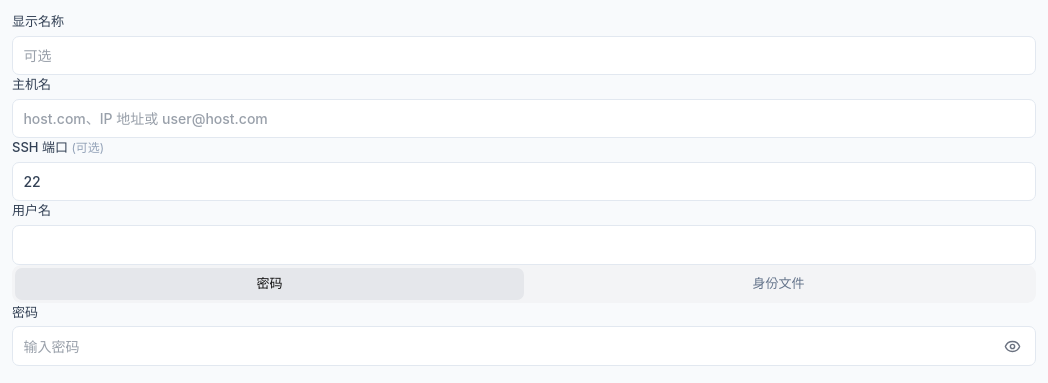
RemoteServerFields host parsing › splits user@host input into username and host
Type "root@keie.com" into the field named "host" at (524, 118), box x1=12 y1=99 x2=1036 y2=138
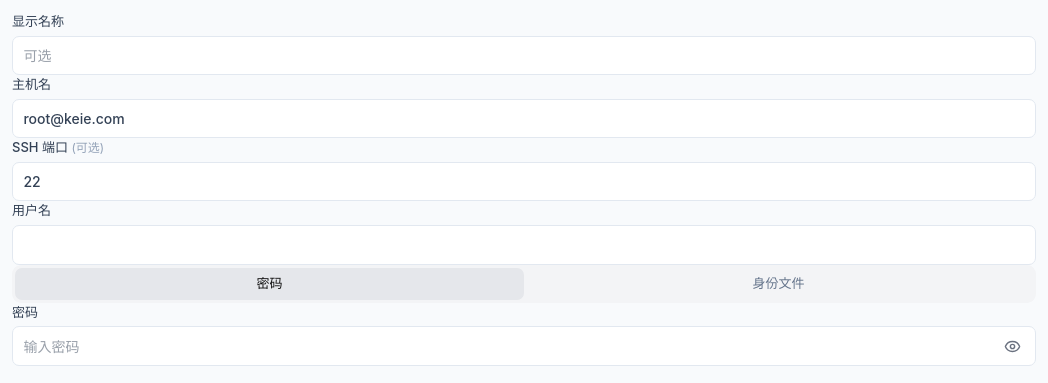
Leave the field named "host", box x1=12 y1=99 x2=1036 y2=138
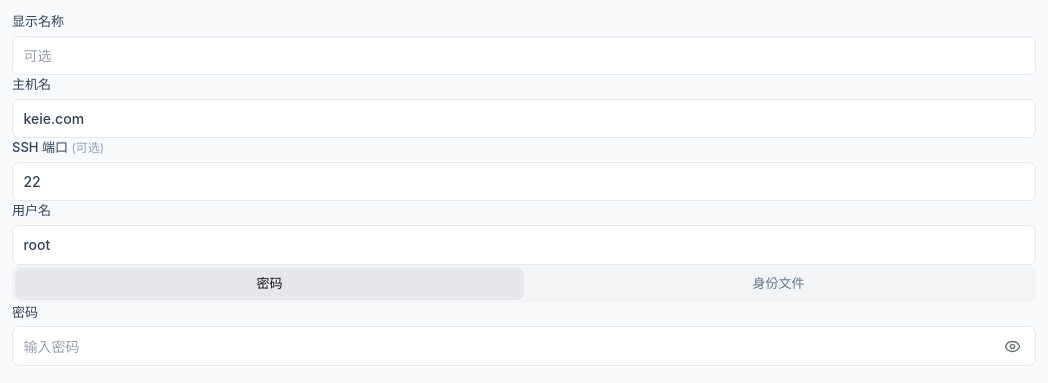
Result: the field named "host" holds "keie.com" at x1=12 y1=99 x2=1036 y2=138
Result: the field named "username" holds "root" at x1=12 y1=225 x2=1036 y2=264
